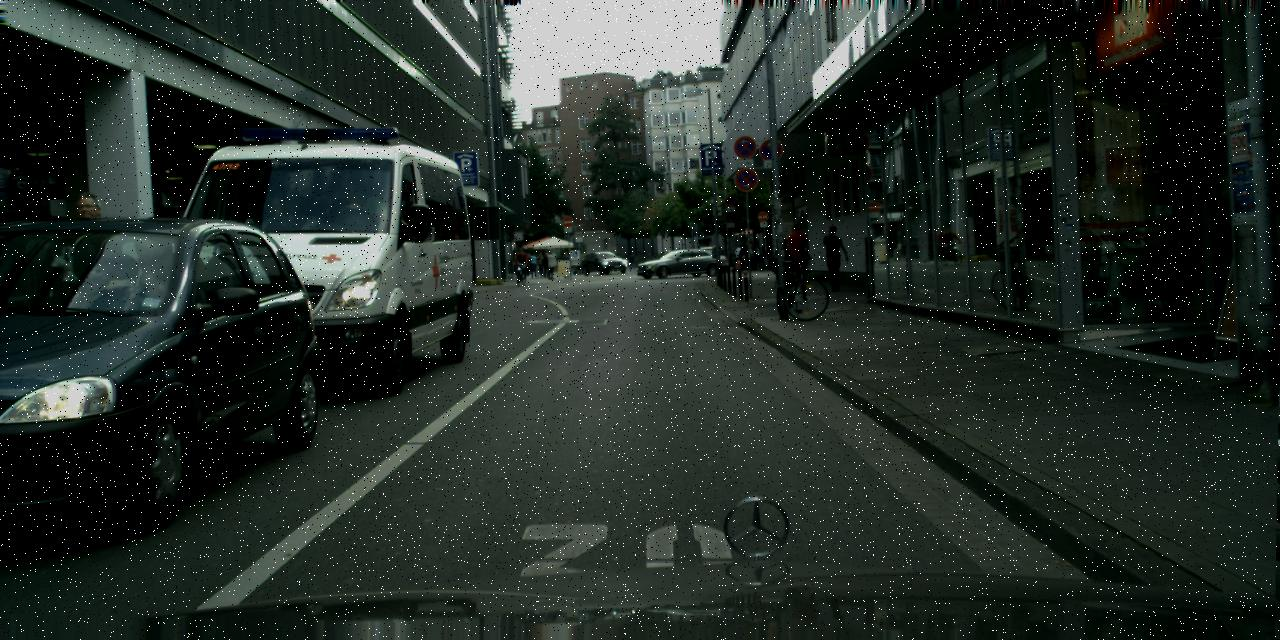ped: (51, 192, 124, 370), (783, 222, 810, 288), (821, 226, 847, 290), (778, 238, 794, 278), (515, 246, 527, 277), (544, 249, 556, 279), (520, 250, 532, 278), (528, 250, 540, 278), (560, 250, 571, 278), (540, 252, 550, 277), (532, 254, 542, 278), (738, 244, 748, 268), (734, 243, 744, 266), (536, 253, 545, 276), (627, 252, 635, 272), (613, 250, 619, 268)
